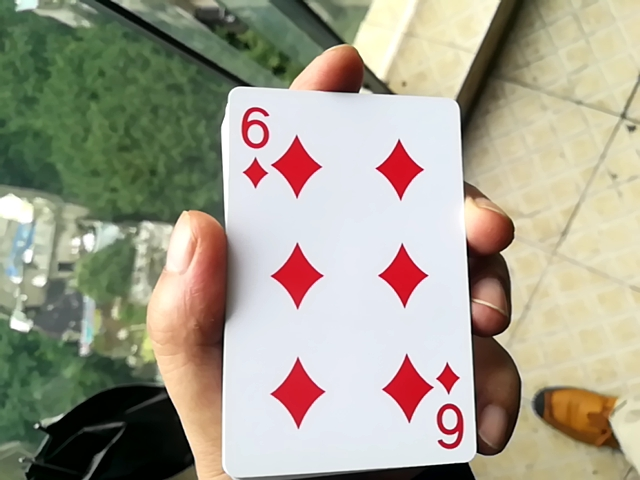fk 6: (204, 77, 477, 480)
